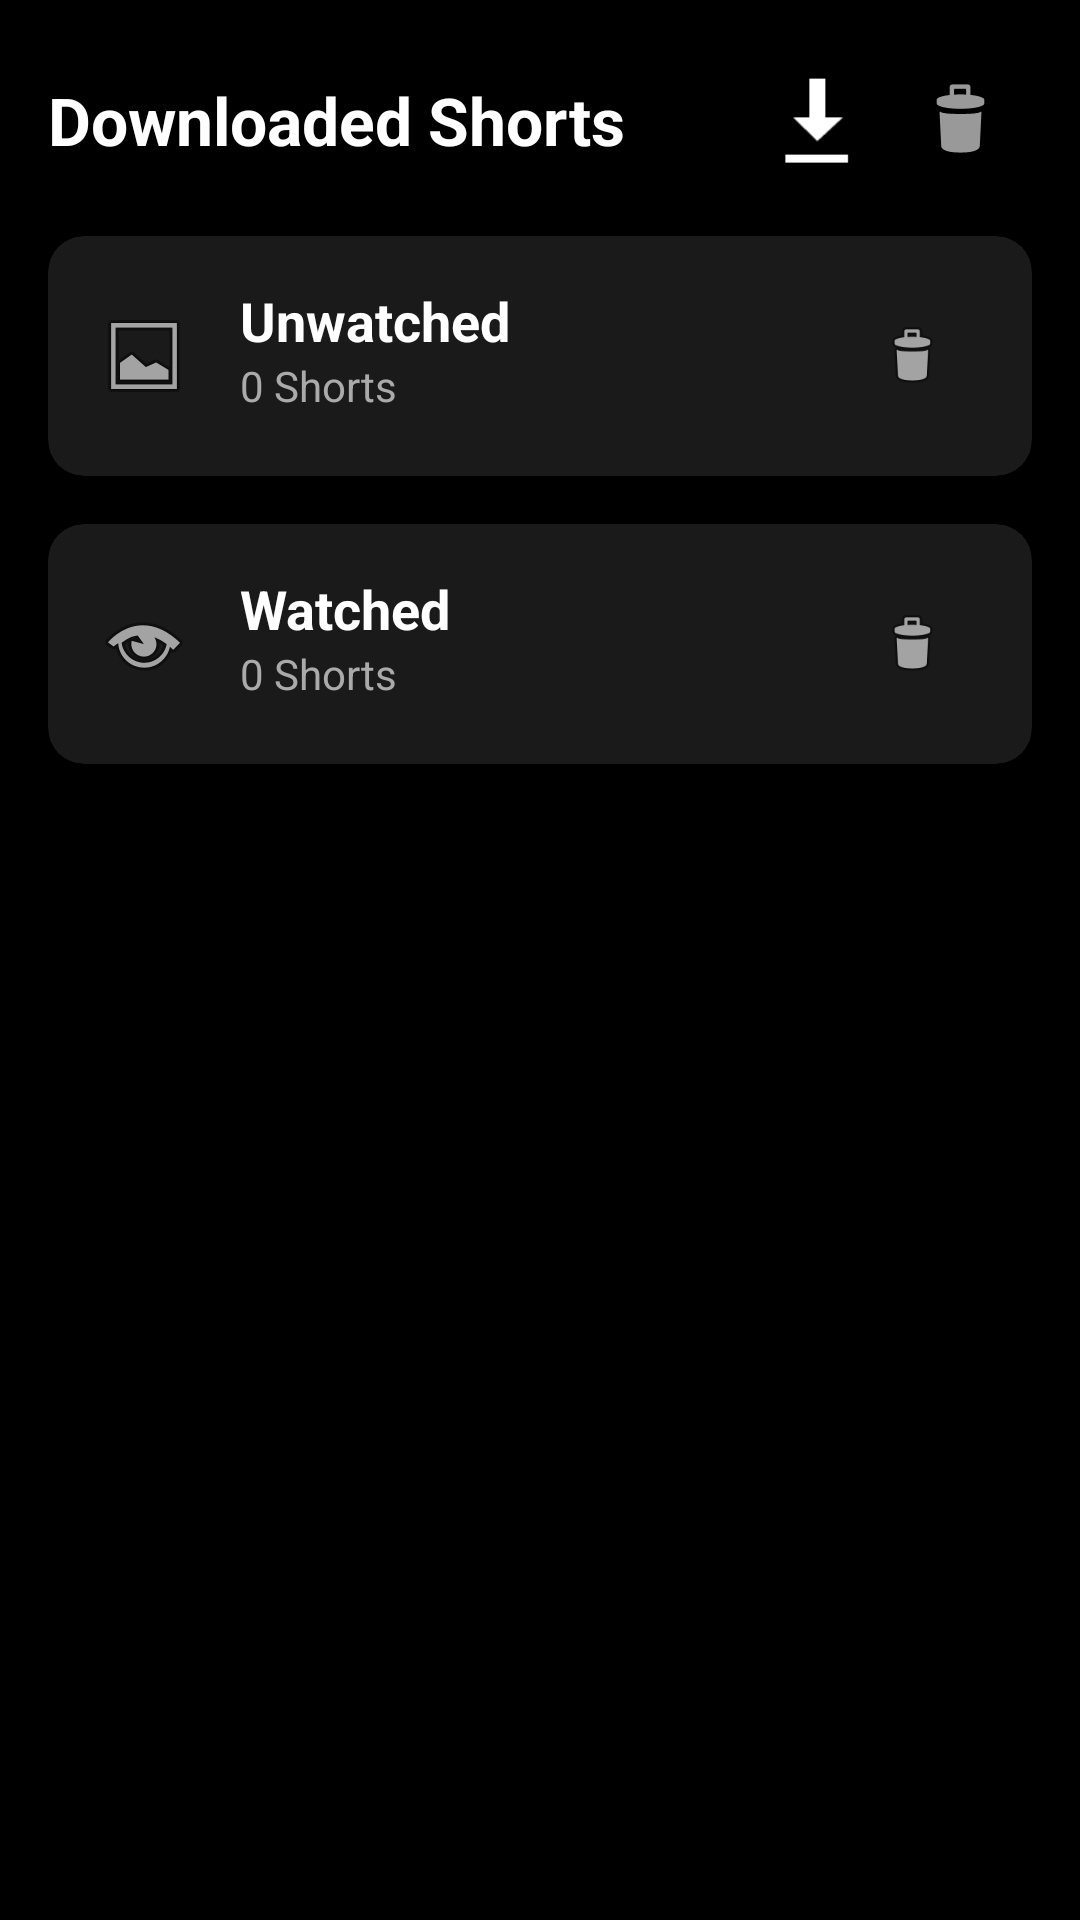

Icons on this 1080px x 1920px Android screen, each with its box as [left=x1, top=y1, right=x2, bottom=y2]:
Batch Download Shorts: [left=785, top=78, right=849, bottom=163]
Delete All Downloads: [left=936, top=84, right=985, bottom=153]
Delete Unwatched Shorts Folder: [left=894, top=329, right=930, bottom=381]
Delete Watched Shorts Folder: [left=894, top=617, right=930, bottom=669]
gallery: [left=111, top=323, right=177, bottom=389]
view: [left=108, top=625, right=180, bottom=668]
